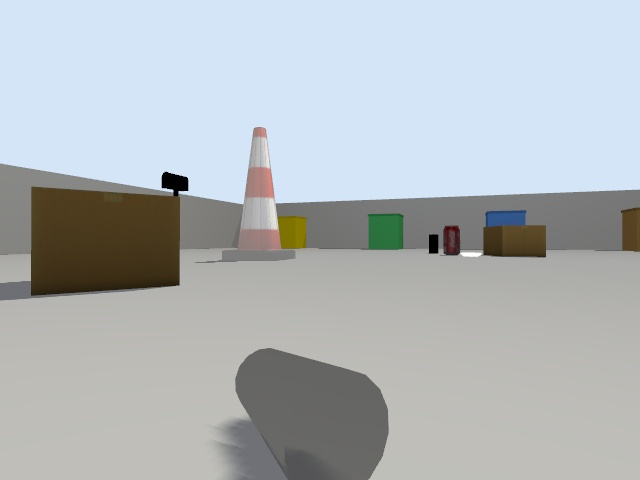boite_lettres: (161, 172, 188, 195)
bouteille_verre: (429, 234, 438, 253)
canette: (484, 225, 545, 256), (443, 225, 459, 254)
carton: (32, 187, 181, 294), (484, 225, 545, 256)
cone_chantier: (222, 127, 294, 259)
gobelet: (236, 348, 388, 479)
